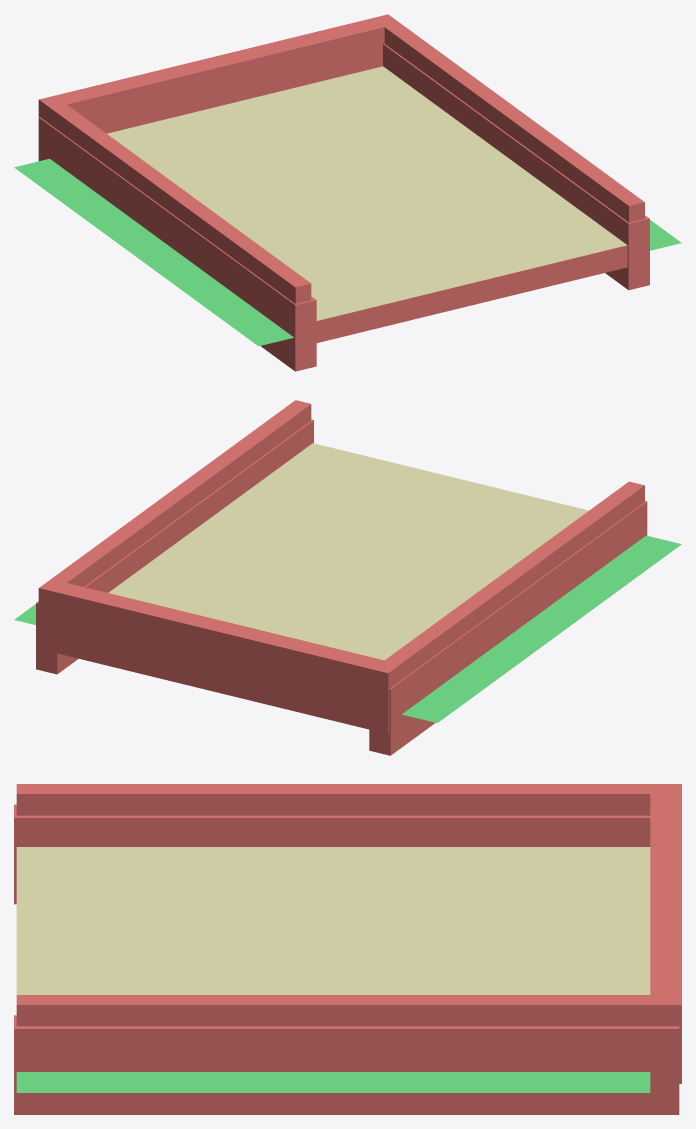
Rendered from straight_wallrails.fbx.
3 renders of one model, top to bottom at view 1: azimuth 30°, elevation 25°; view 2: azimuth 150°, elevation 25°; view 3: azimuth 270°, elevation 25°, orthographic. The views are drawn at different scales.
Parts seen in each view (by area): view 1: 1_cube, rail.001, Plane, rail; view 2: 1_cube, rail.001, Plane, rail; view 3: 1_cube, rail, rail.001, Plane.
Part boxes in pixels (bbox=[...]): 1_cube: bbox=[38, 14, 644, 342]; rail.001: bbox=[38, 117, 316, 371]; Plane: bbox=[14, 158, 681, 346]; rail: bbox=[383, 44, 649, 290]; 1_cube: bbox=[38, 400, 644, 733]; rail.001: bbox=[369, 501, 647, 755]; Plane: bbox=[14, 535, 681, 722]; rail: bbox=[36, 419, 313, 674]; 1_cube: bbox=[16, 784, 681, 1083]; rail: bbox=[14, 1015, 679, 1114]; rail.001: bbox=[14, 804, 650, 904]; Plane: bbox=[16, 1072, 650, 1092].
Size of the model in its own units: 200 by 37.5 by 211.
